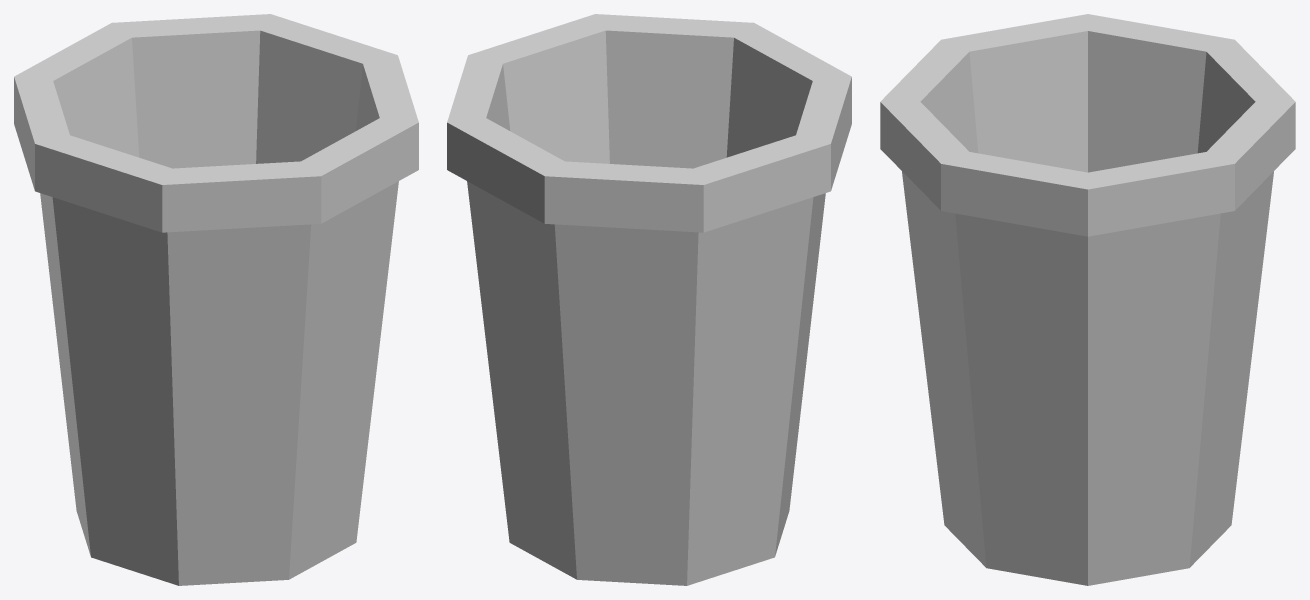
The model's file is EmptyCup.fbx.
3 renders of one model, left to right at view 1: azimuth 30°, elevation 25°; view 2: azimuth 150°, elevation 25°; view 3: azimuth 270°, elevation 25°, orthographic.
Parts seen in each view (by area): view 1: EmptyCup; view 2: EmptyCup; view 3: EmptyCup.
Part boxes in pixels (x1=…): EmptyCup: x1=14, y1=14, x2=418, y2=585; EmptyCup: x1=447, y1=14, x2=851, y2=585; EmptyCup: x1=880, y1=14, x2=1295, y2=585.
Size of the model in its own units: 0.4 by 0.45 by 0.4.
1 material, 1 textured.
